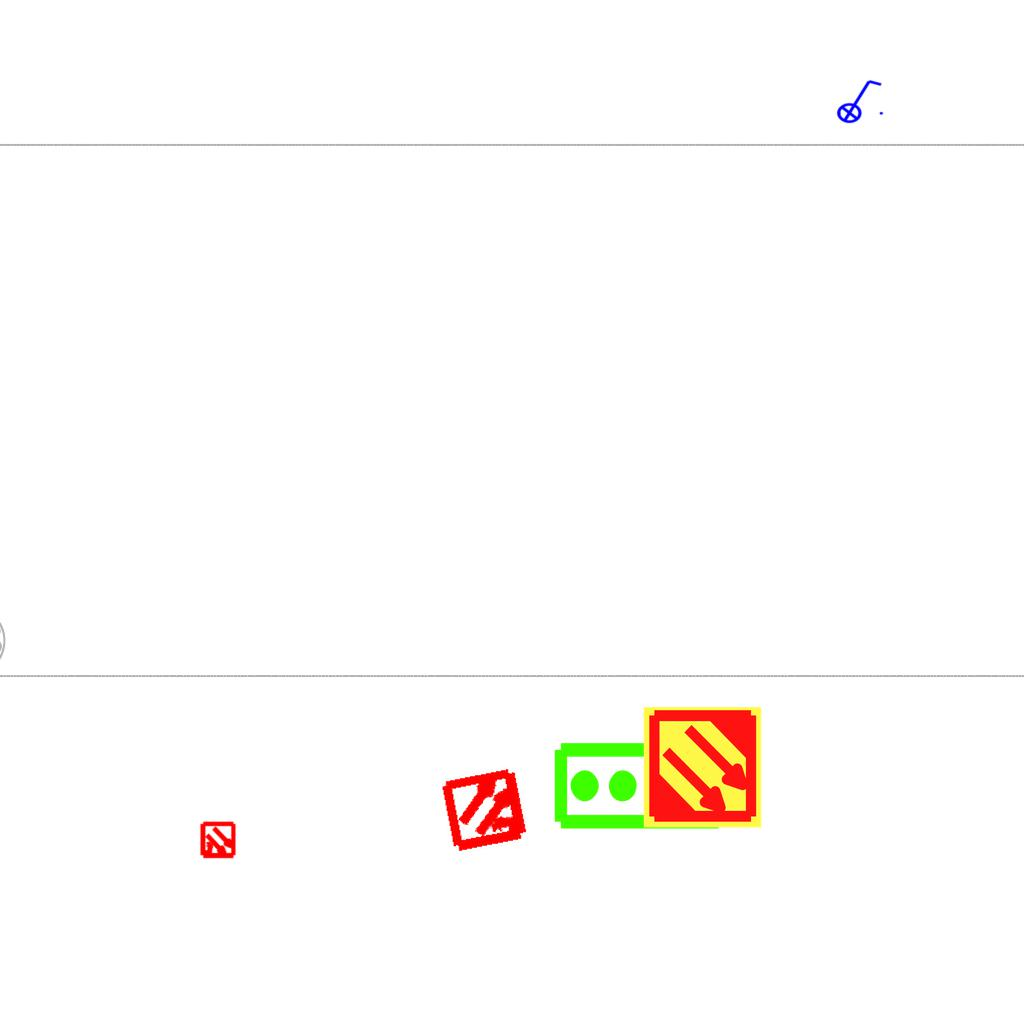ASR_Ansaugrauchmelder: (640, 705, 765, 830)
Ausschalter_beleuchtet: (830, 76, 886, 124)
Gegensprechanlage_mit_Video: (551, 740, 727, 835)
OT_Multisensormelder_(Kombination_RMO_WMD): (420, 743, 553, 876), (190, 813, 246, 869)
